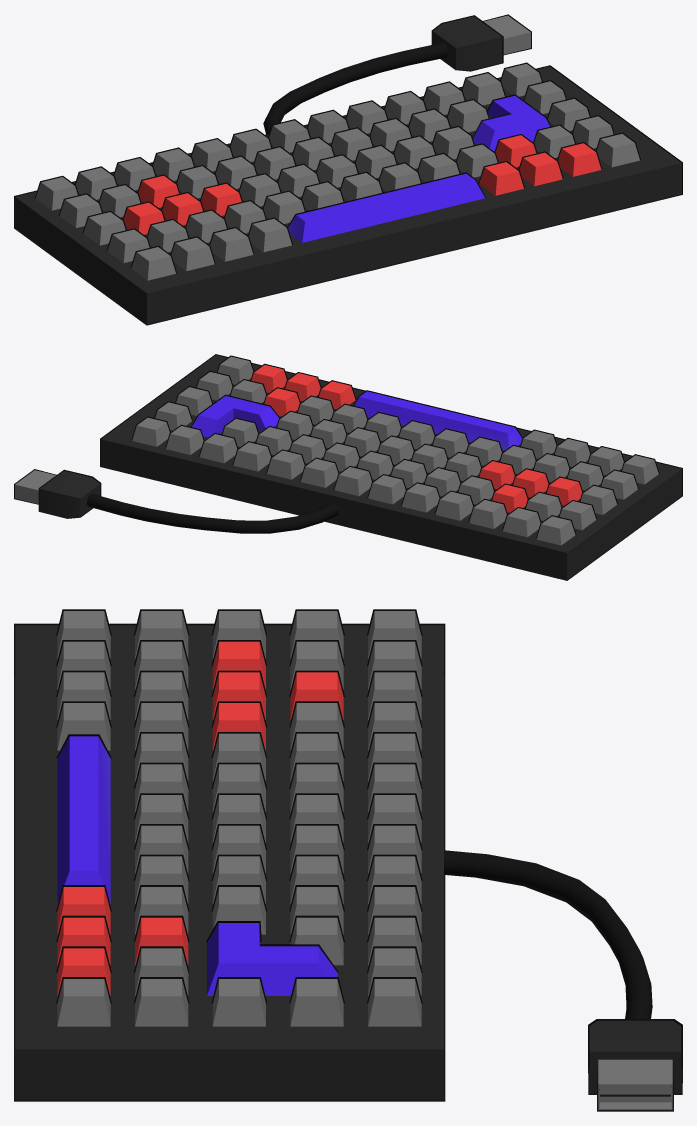
Rendered from Teclado.fbx.
The picture shows the model from 3 angles, top to bottom: view 1: azimuth 30°, elevation 25°; view 2: azimuth 150°, elevation 25°; view 3: azimuth 270°, elevation 25°; orthographic projection. The views are drawn at different scales.
Parts seen in each view (by area): view 1: Cube, Cube.003, Cube.001; view 2: Cube, Cube.003, Cube.001; view 3: Cube, Cube.003, Cube.001.
Part boxes in pixels (x1,y1,x2,y2): Cube: (15, 63, 681, 324); Cube.003: (14, 14, 682, 325); Cube.001: (433, 15, 530, 70); Cube: (101, 355, 681, 579); Cube.003: (14, 354, 682, 580); Cube.001: (15, 470, 100, 517); Cube: (15, 611, 443, 1099); Cube.003: (14, 609, 682, 1111); Cube.001: (589, 1020, 681, 1109).
Bounding box in the file's own units: 44.03 × 3.72 × 27.78.
